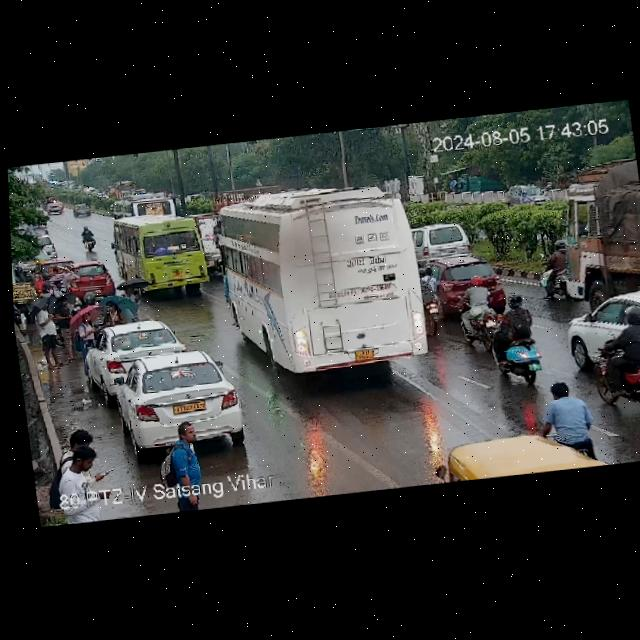bus: (213, 176, 437, 381), (554, 156, 640, 300), (104, 204, 215, 295), (110, 189, 178, 222), (41, 233, 60, 259)
car: (100, 347, 249, 455), (435, 419, 600, 483), (82, 317, 185, 383), (562, 291, 640, 369), (428, 253, 468, 314), (416, 263, 447, 337), (504, 181, 548, 209), (70, 201, 94, 218), (44, 201, 61, 214)
motorcycle: (587, 303, 640, 416), (493, 292, 543, 383), (537, 377, 597, 451), (452, 274, 499, 349), (537, 236, 572, 297), (80, 224, 95, 252), (516, 191, 532, 205)
person: (163, 420, 205, 479), (62, 424, 103, 484), (35, 302, 62, 366), (38, 264, 78, 300), (57, 295, 77, 358), (99, 298, 124, 325), (76, 309, 94, 342), (120, 285, 139, 311)
truck: (412, 221, 468, 258)
